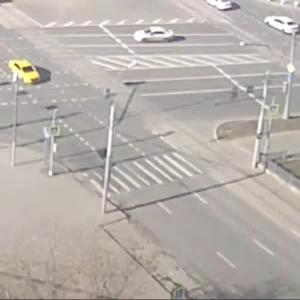car: (5, 60, 46, 87), (263, 16, 300, 37), (133, 28, 176, 45)
